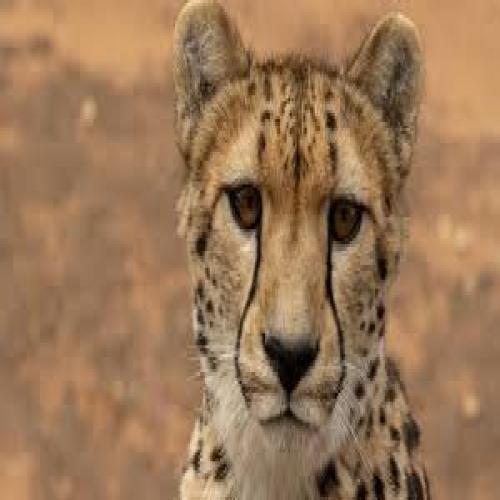cheetah-endangered: (174, 4, 428, 500)
